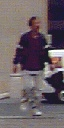person: (19, 20, 51, 113)
